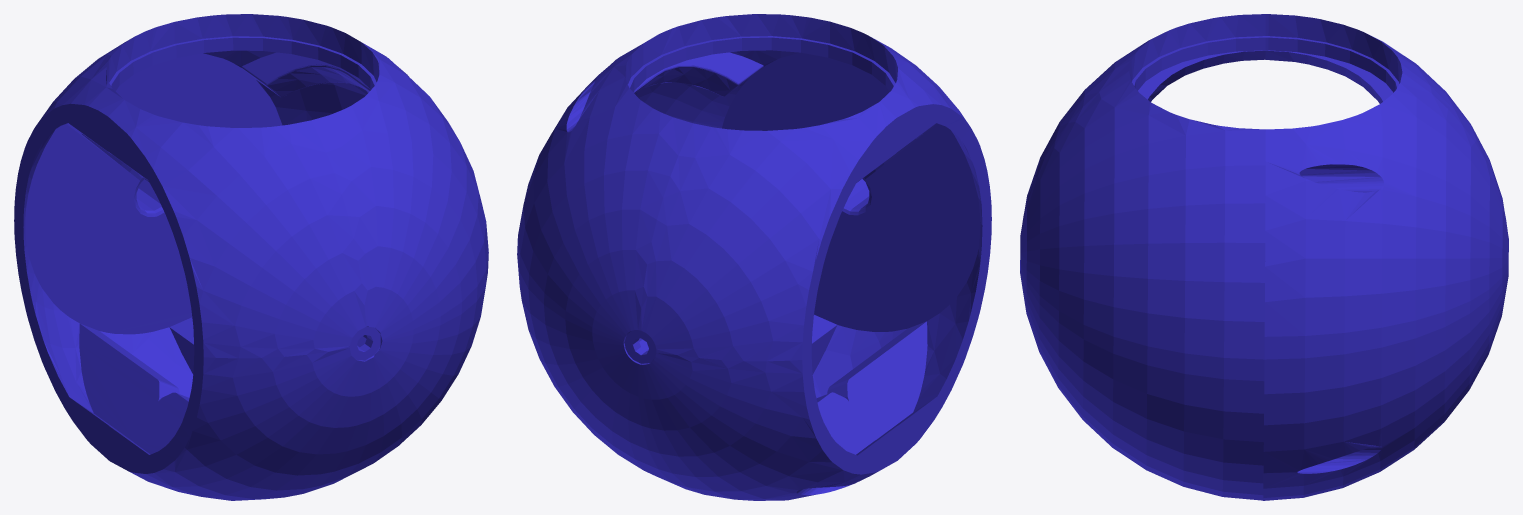
The picture shows the model from 3 angles, left to right: view 1: azimuth 30°, elevation 25°; view 2: azimuth 150°, elevation 25°; view 3: azimuth 270°, elevation 25°; orthographic projection.
Parts seen in each view (by area): view 1: Link_04; view 2: Link_04; view 3: Link_04.
Part boxes in pixels (x1,y1,x2,y2): Link_04: [14, 14, 488, 500]; Link_04: [517, 14, 991, 500]; Link_04: [1020, 14, 1508, 500].
Size of the model in its own units: 85 by 104 by 95.35.
